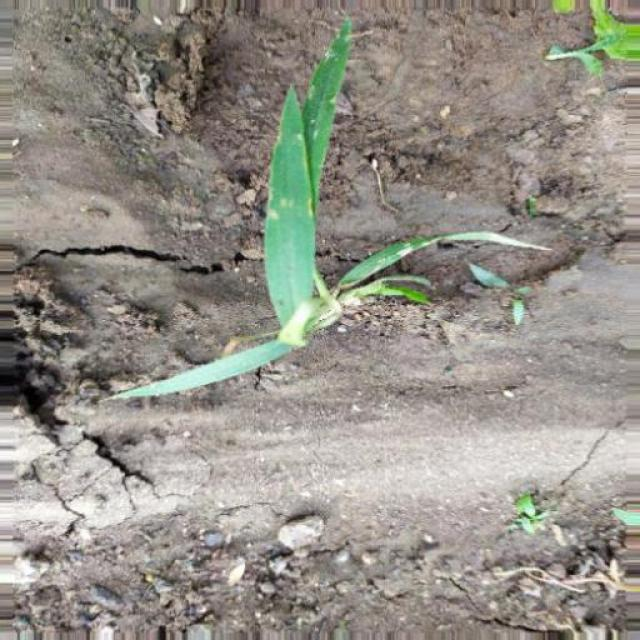weed: (80, 30, 559, 416)
